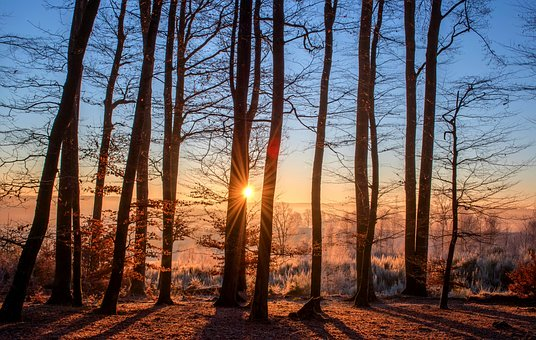forest: (6, 6, 536, 337)
tree: (6, 1, 110, 317), (102, 1, 206, 317), (194, 1, 298, 317), (347, 1, 451, 317)
